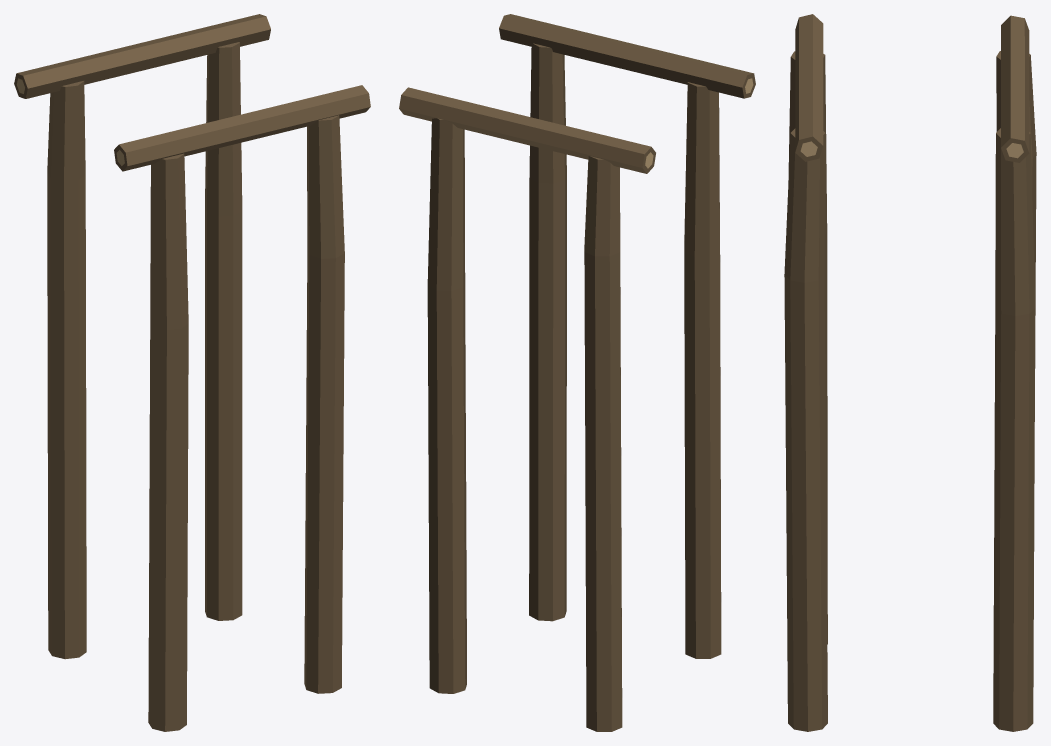
The model's file is rpgpp_ag_wall_platform_03_support_01a_6m .fbx.
3 views of the same model, side by side, from view 1: azimuth 30°, elevation 25°; view 2: azimuth 150°, elevation 25°; view 3: azimuth 270°, elevation 25° (orthographic). The views are drawn at different scales.
Parts seen in each view (by area): view 1: rpgpp_ag_wall_platform_03_support_01a_6m; view 2: rpgpp_ag_wall_platform_03_support_01a_6m; view 3: rpgpp_ag_wall_platform_03_support_01a_6m.
Boxes of the visible parts, x1,y1,x2,y2 form: rpgpp_ag_wall_platform_03_support_01a_6m: (14,14,370,731); rpgpp_ag_wall_platform_03_support_01a_6m: (399,14,755,731); rpgpp_ag_wall_platform_03_support_01a_6m: (784,14,1036,731).
Bounding box in the file's own units: 2.55 × 5.9 × 2.22.
